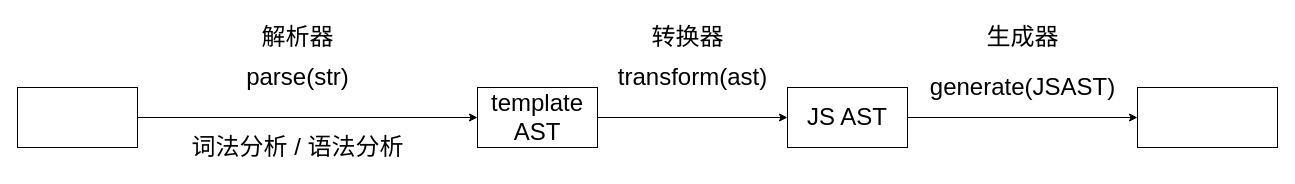
The diagram is 1295 pixels wide and 184 high, and some of its shapes have lost their labels. The shapes that lost their labels are listed below. From the top down, each one's box as (x1, y1, x2, y2) in pixels, then its label:
(16, 86, 138, 148): Vue template
(1136, 86, 1278, 148): render 函数
